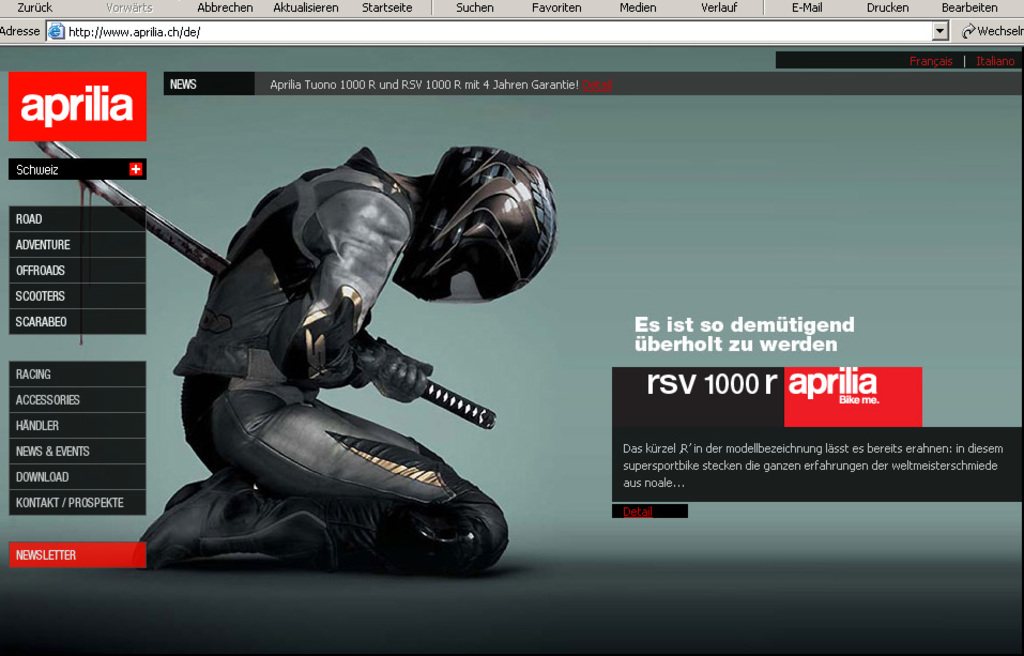Person: (139, 146, 558, 570)
